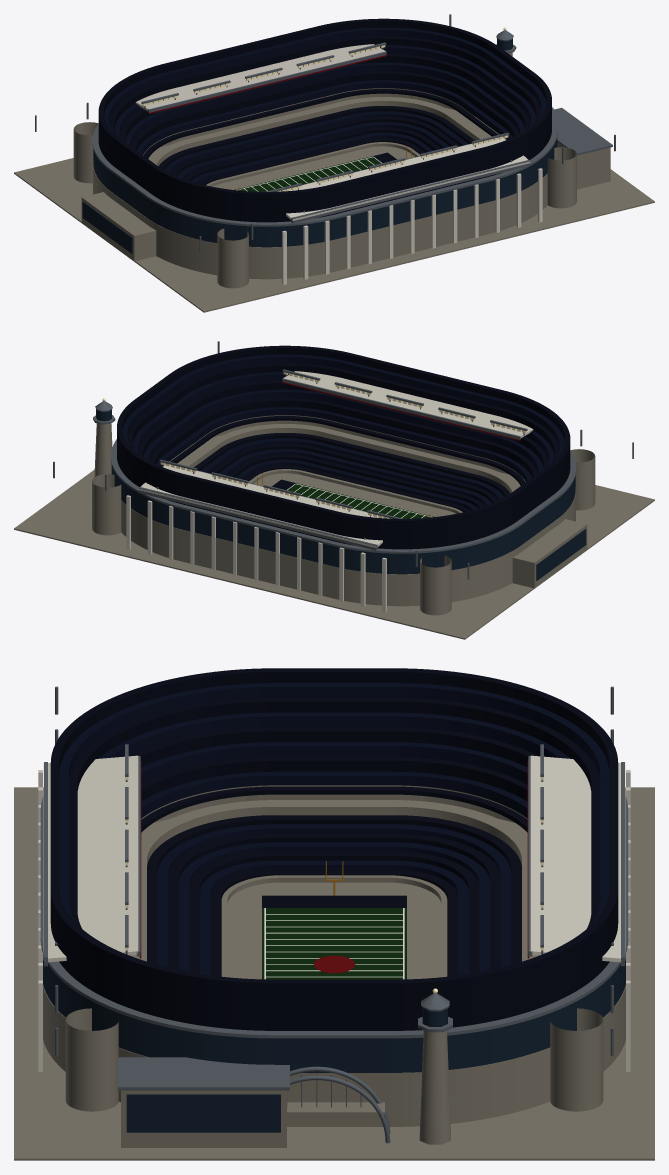
Rendered from stadium.obj.
3 renders of one model, top to bottom at view 1: azimuth 30°, elevation 25°; view 2: azimuth 150°, elevation 25°; view 3: azimuth 270°, elevation 25°, orthographic. The views are drawn at different scales.
Parts seen in each view (by area): view 1: upper_tier_9, plaza, facade_base, facade_glazing, upper_tier_8, corner_ramp, upper_tier_7, upper_tier_3, upper_tier_4, pilaster, concourse, upper_tier_2 (+24 smaller); view 2: upper_tier_9, plaza, facade_base, facade_glazing, upper_tier_8, corner_ramp, upper_tier_7, upper_tier_3, upper_tier_4, pilaster, concourse, upper_tier_2 (+23 smaller); view 3: plaza, upper_tier_9, facade_glazing, facade_base, canopy_east, canopy_west, upper_tier_8, upper_tier_7, turf, corner_ramp, concourse, upper_tier_6 (+27 smaller).
Boxes of the visible parts, bbox=[...] form: upper_tier_9: bbox=[98, 18, 551, 222]; plaza: bbox=[14, 108, 654, 312]; facade_base: bbox=[93, 88, 547, 279]; facade_glazing: bbox=[93, 138, 557, 247]; upper_tier_8: bbox=[104, 27, 546, 132]; corner_ramp: bbox=[73, 90, 576, 288]; upper_tier_7: bbox=[109, 36, 541, 135]; upper_tier_3: bbox=[131, 71, 519, 150]; upper_tier_4: bbox=[125, 62, 525, 145]; pilaster: bbox=[282, 168, 542, 284]; concourse: bbox=[150, 97, 487, 166]; upper_tier_2: bbox=[137, 80, 512, 154]; upper_tier_9: bbox=[117, 345, 570, 549]; plaza: bbox=[14, 435, 654, 639]; facade_base: bbox=[121, 415, 575, 606]; facade_glazing: bbox=[111, 465, 575, 574]; upper_tier_8: bbox=[122, 354, 564, 459]; corner_ramp: bbox=[92, 417, 595, 615]; upper_tier_7: bbox=[127, 363, 559, 462]; upper_tier_3: bbox=[149, 398, 537, 477]; upper_tier_4: bbox=[143, 389, 543, 472]; pilaster: bbox=[126, 495, 386, 611]; concourse: bbox=[181, 424, 518, 493]; upper_tier_2: bbox=[156, 407, 531, 481]; plaza: bbox=[14, 787, 654, 1160]; upper_tier_9: bbox=[50, 668, 618, 1030]; facade_glazing: bbox=[43, 954, 625, 1072]; facade_base: bbox=[43, 786, 625, 1126]; canopy_east: bbox=[43, 755, 138, 962]; canopy_west: bbox=[530, 755, 625, 962]; upper_tier_8: bbox=[59, 683, 609, 923]; upper_tier_7: bbox=[68, 698, 600, 928]; turf: bbox=[262, 908, 406, 979]; corner_ramp: bbox=[65, 1008, 603, 1111]; concourse: bbox=[131, 800, 537, 961]; upper_tier_6: bbox=[98, 712, 570, 758].
Size of the model in its own units: 297 by 56.3 by 216.
